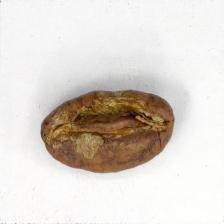NG: (51, 98, 166, 170)
